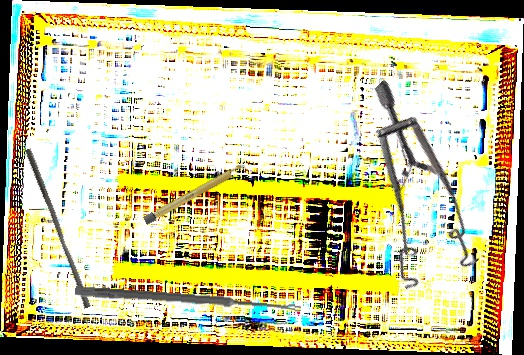Pusher: (18, 148, 97, 309)
Scalpel Handle: (142, 161, 248, 226)
Speculum: (290, 79, 522, 311)
Surgical Spoon: (74, 286, 302, 313)
